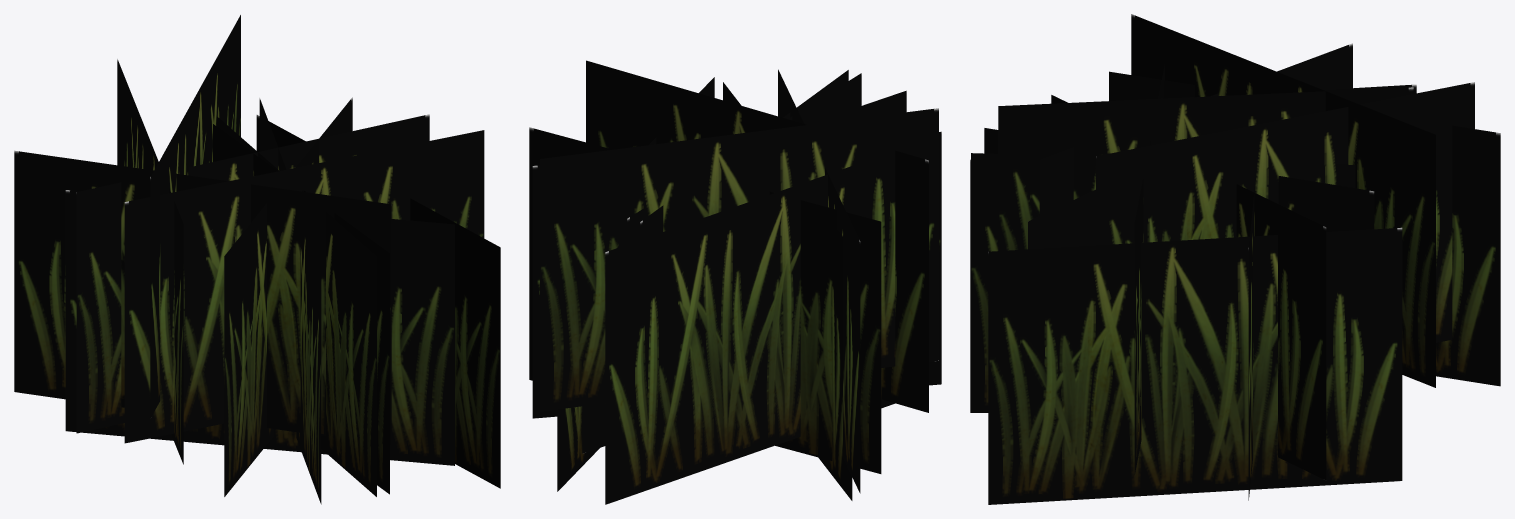
File: grass_green.gltf
The picture shows the model from 3 angles, left to right: view 1: azimuth 30°, elevation 25°; view 2: azimuth 150°, elevation 25°; view 3: azimuth 270°, elevation 25°; orthographic projection. The views are drawn at different scales.
Parts seen in each view (by area): view 1: Grass_green.013; view 2: Grass_green.013; view 3: Grass_green.013.
Boxes of the visible parts, x1=… form: Grass_green.013: x1=14, y1=15, x2=500, y2=504; Grass_green.013: x1=529, y1=60, x2=941, y2=504; Grass_green.013: x1=970, y1=14, x2=1500, y2=504.
Size of the model in its own units: 159 by 137 by 190.
14 materials, 14 textured.
